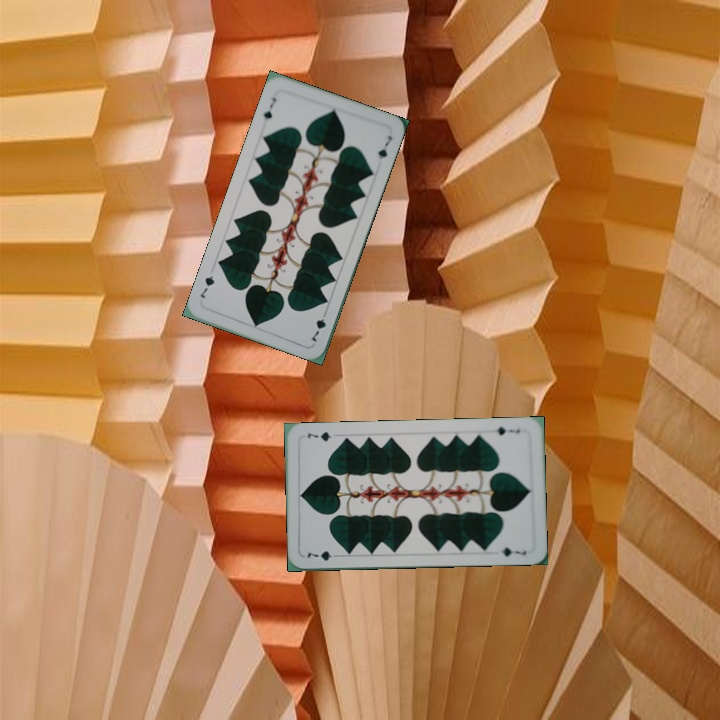G7: (308, 306, 330, 344), (303, 547, 343, 563), (259, 93, 279, 123), (493, 422, 523, 438)
